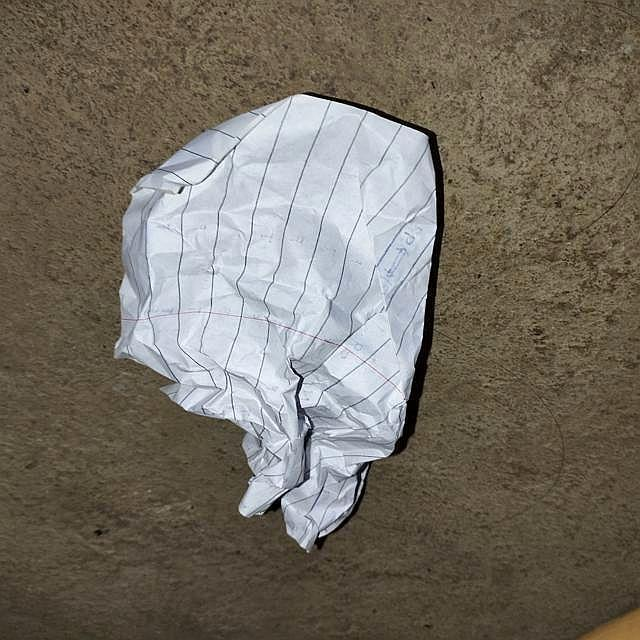Biodegradable: (120, 95, 441, 553)
